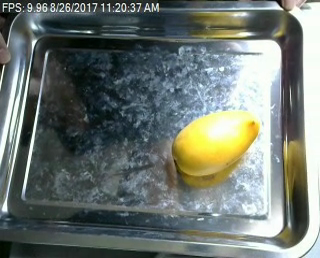Mango: (176, 110, 259, 174)
